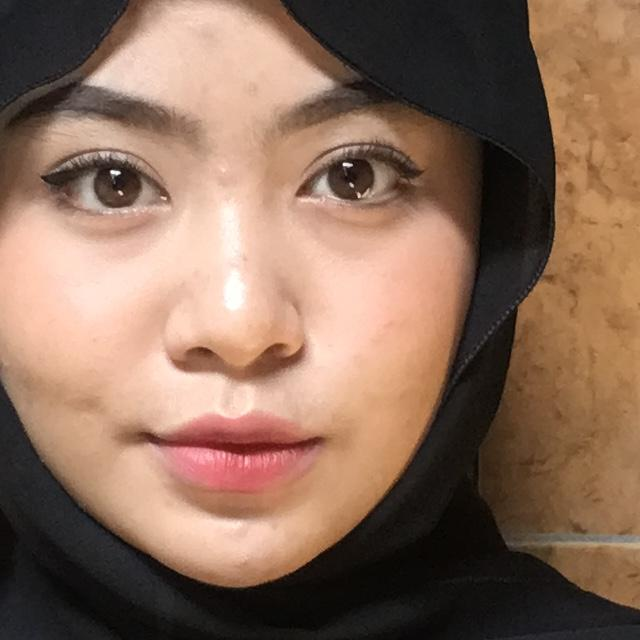ibu: (0, 136, 275, 640)
